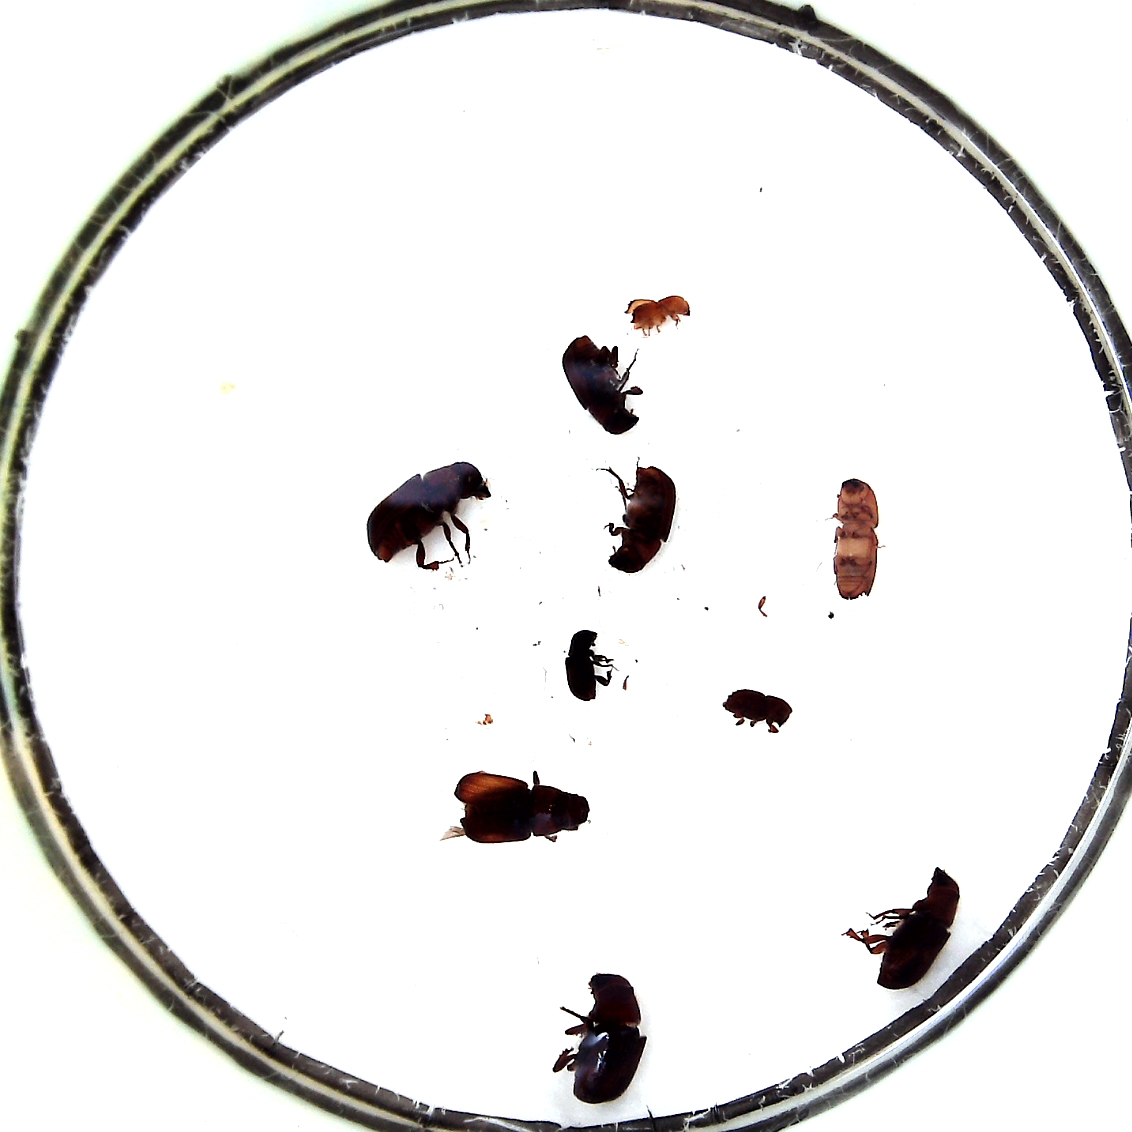Boerner: (831, 476, 880, 602)
Leconte: (362, 460, 493, 574), (864, 862, 963, 988), (562, 967, 647, 1105), (452, 764, 590, 847), (557, 331, 645, 436), (609, 464, 677, 574)
Linnaeus: (716, 687, 791, 733)
acuminatus: (624, 292, 694, 336)
armandi: (563, 628, 616, 705)
